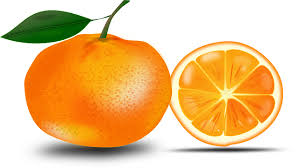orange: (15, 30, 178, 152), (169, 36, 290, 144)
